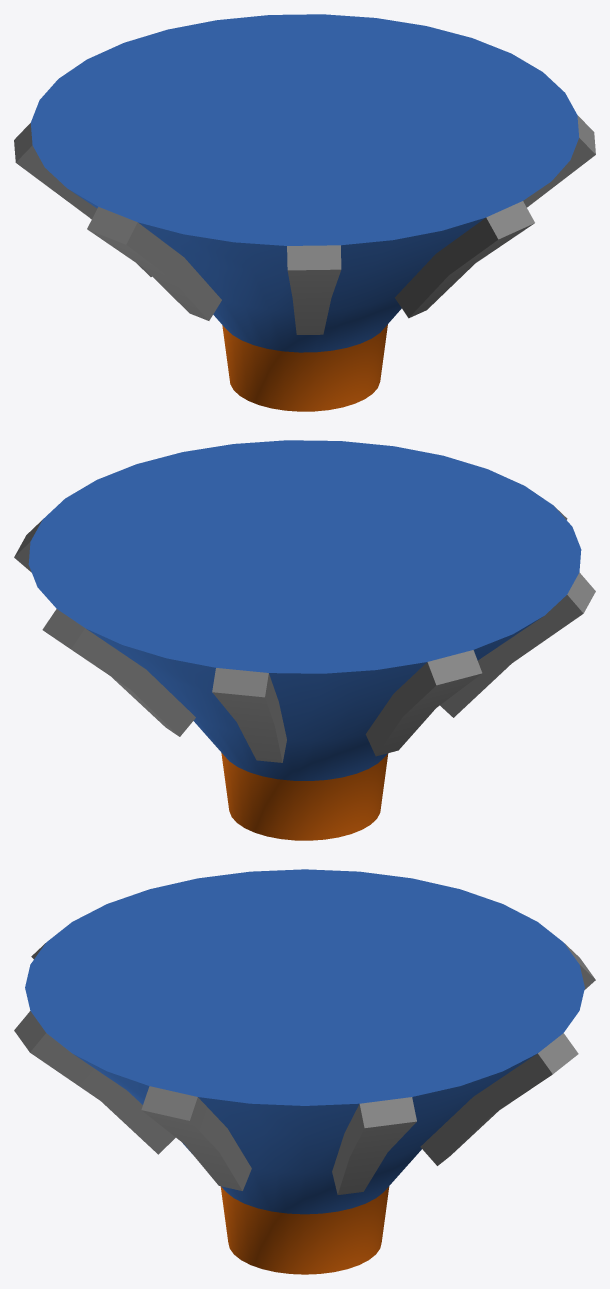
File: tip1.glb
3 views of the same model, one above another, from view 1: azimuth 30°, elevation 25°; view 2: azimuth 150°, elevation 25°; view 3: azimuth 270°, elevation 25° (orthographic).
Visible parts, largest first — view 1: tip; view 2: tip; view 3: tip.
Boxes of the visible parts, bbox=[...] form: tip: bbox=[14, 14, 595, 411]; tip: bbox=[14, 440, 595, 840]; tip: bbox=[14, 869, 595, 1274].
Size of the model in its own units: 0.2079 by 0.1003 by 0.2079.
